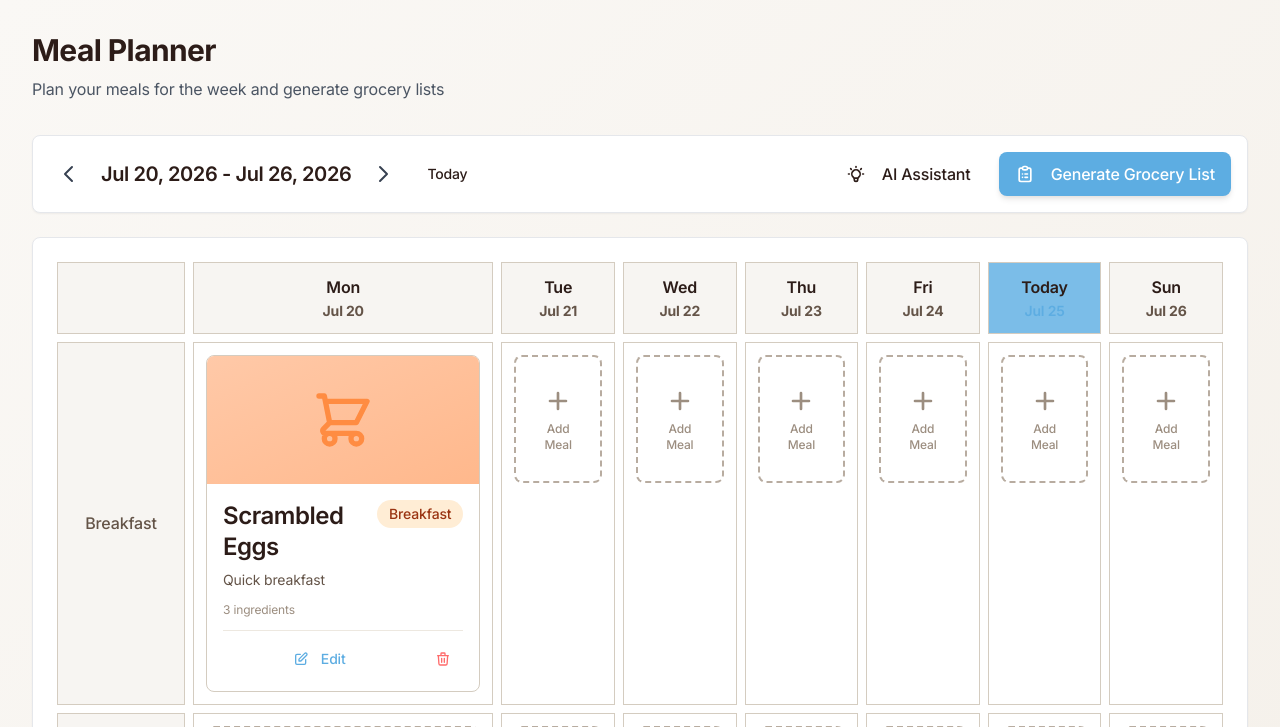
Test case: MealPlannerPage - Simplified Flow (Meal Plan > Edit Meal) › Desktop Flow › should open edit modal directly when desktop meal is clicked
Click the text "Scrambled Eggs". click: (283, 531)
box: [223,501,343,561]
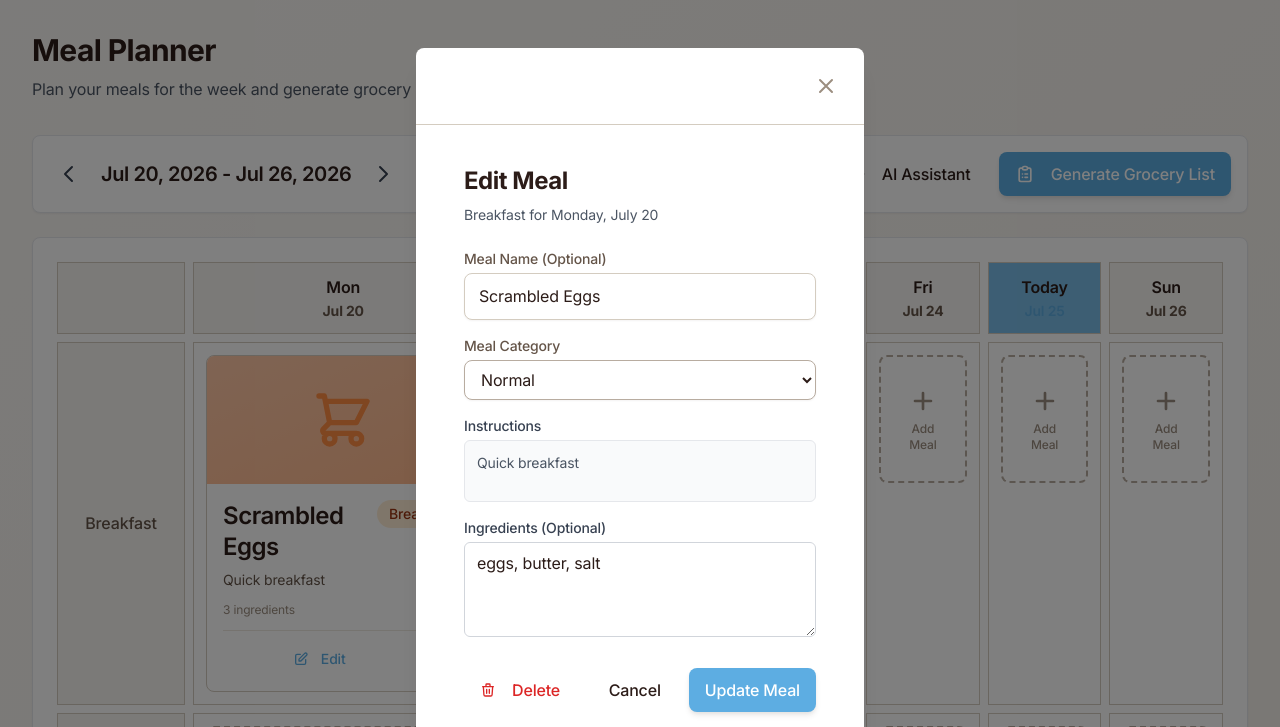
Expected: the heading "Edit Meal" is shown, [464,166,568,194]
Expected: the field showing "Scrambled Eggs" is shown, [464,272,816,320]
Expected: the text box showing "eggs, butter, salt" is shown, [464,542,816,637]
